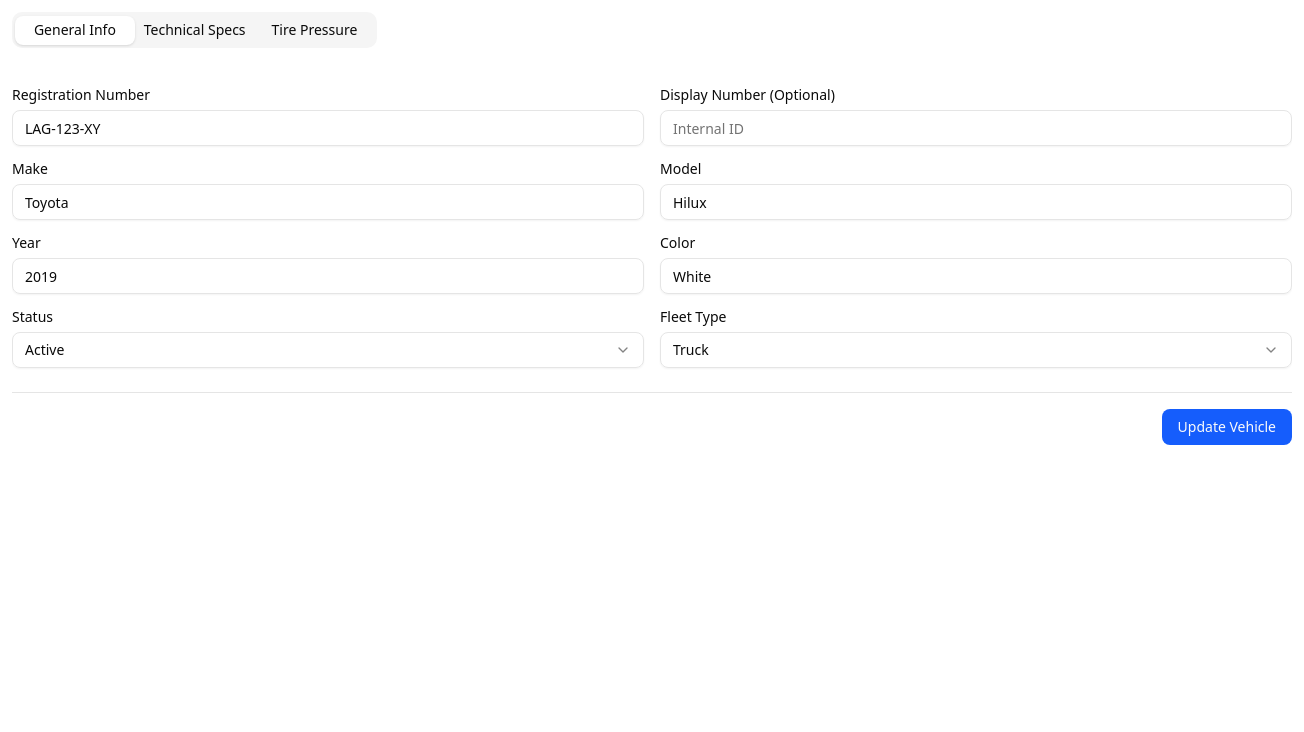
the vehicle form’s fuel estimation fields › starts with estimation on and no rates for a vehicle the API says nothing about
Click the tab "Technical Specs" at (195, 30), box [135,16,255,44]
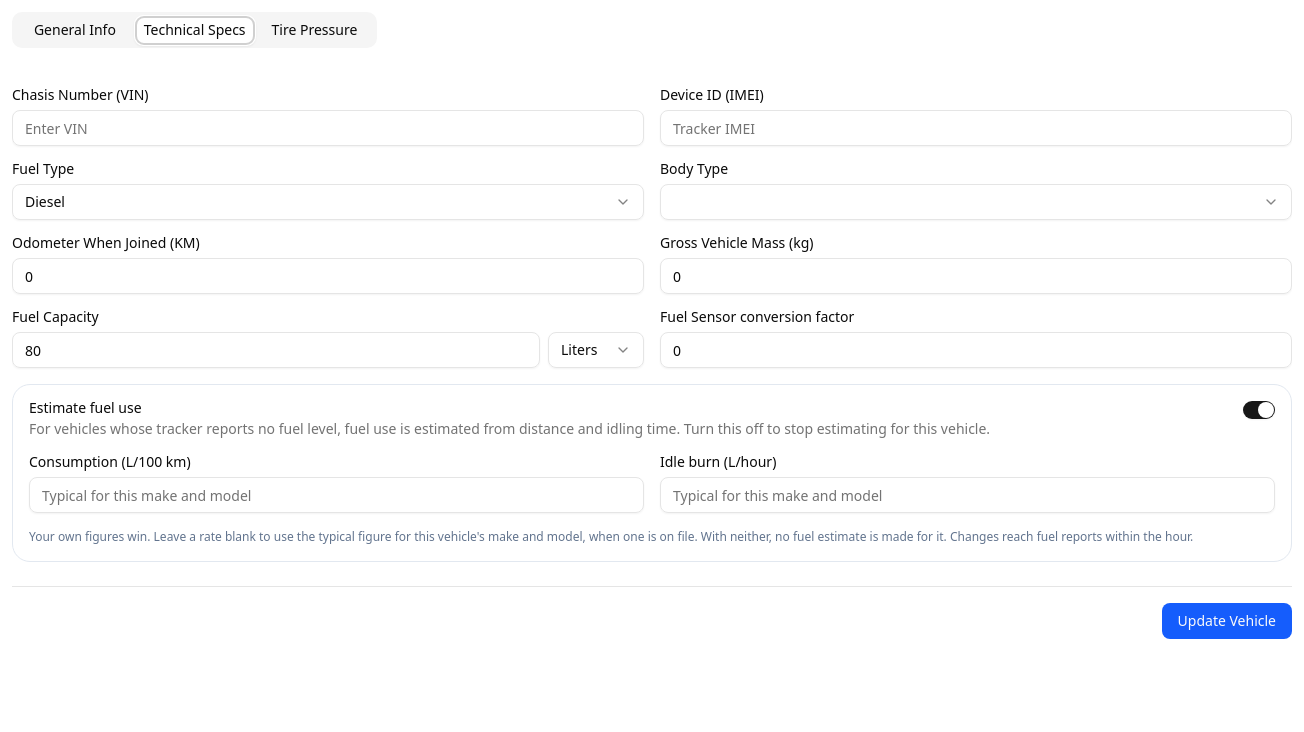
Expected: the switch named "Estimate fuel use" is checked, [1243,401,1275,419]
Expected: the number field labelled "Consumption (L/100 km)" is not empty, [29,477,644,513]
